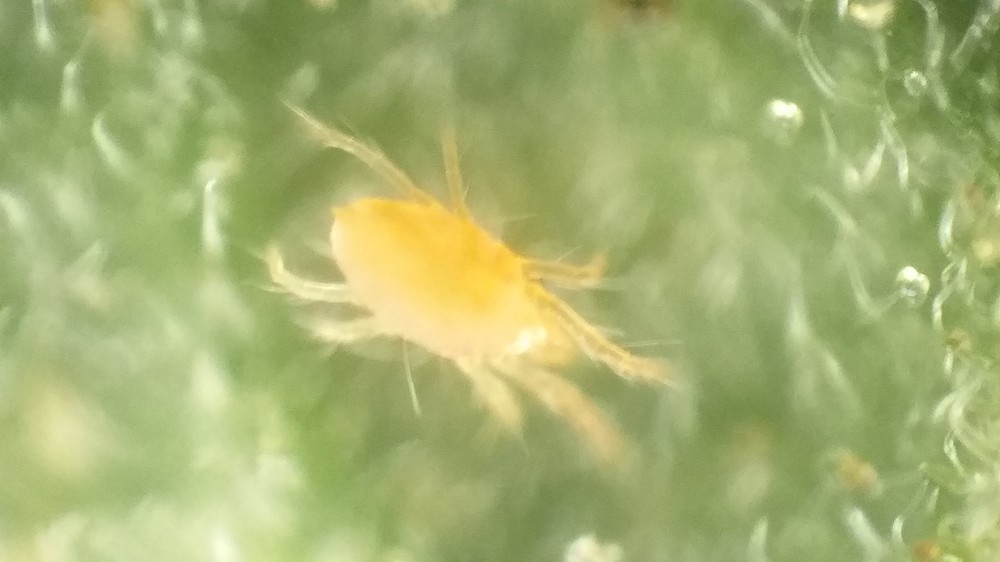Aracnido Rojo: (233, 100, 753, 488)
